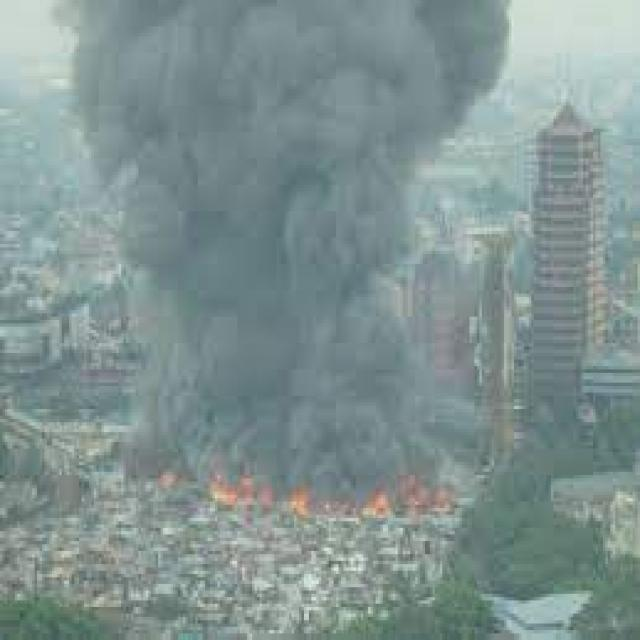Fire: (204, 460, 451, 545)
Smoke: (123, 0, 454, 468)
